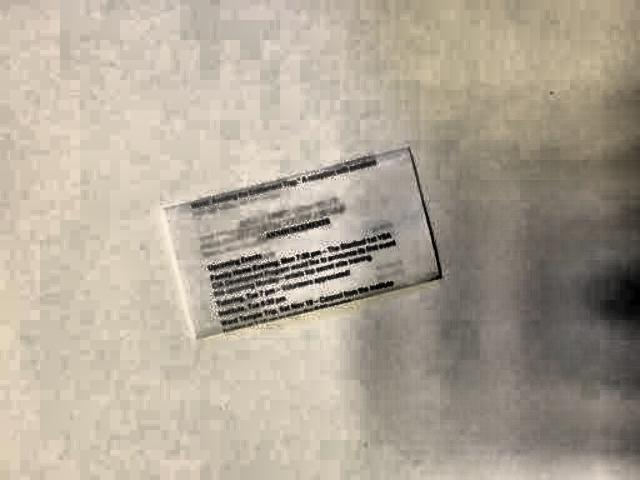Paper: (147, 146, 455, 348)
